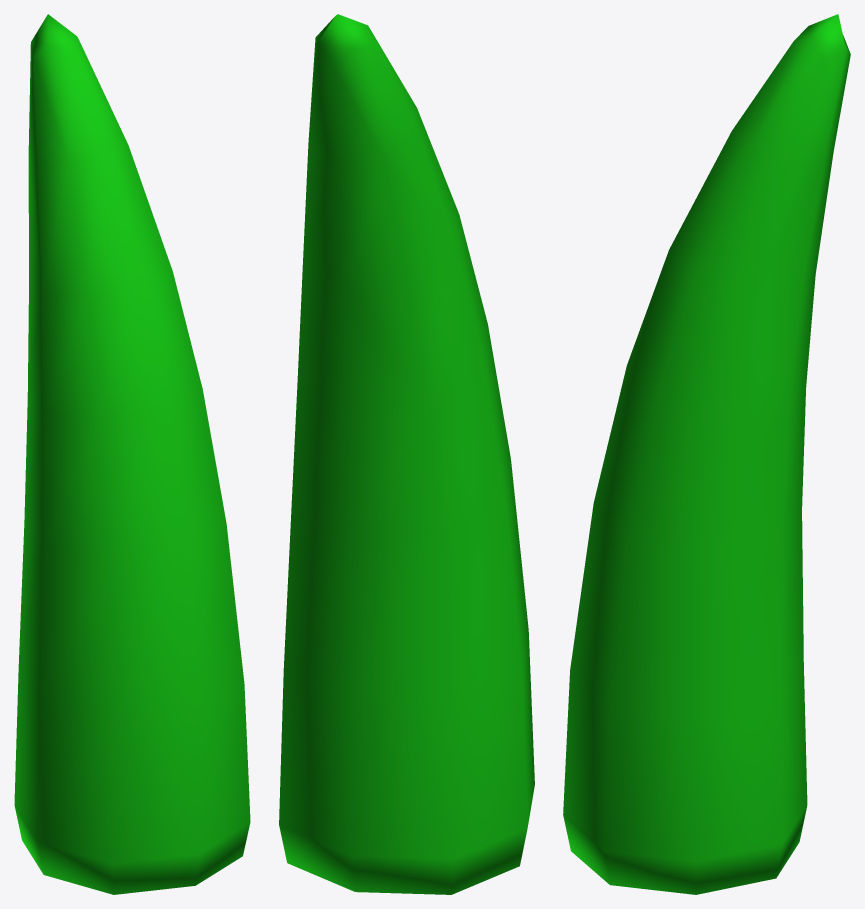
File: hierba_low.fbx
The picture shows the model from 3 angles, left to right: view 1: azimuth 30°, elevation 25°; view 2: azimuth 150°, elevation 25°; view 3: azimuth 270°, elevation 25°; orthographic projection. The views are drawn at different scales.
Parts seen in each view (by area): view 1: hierba_low; view 2: hierba_low; view 3: hierba_low.
Boxes of the visible parts, left/top/right/bottom form: hierba_low: left=14, top=14, right=250, bottom=894; hierba_low: left=279, top=14, right=534, bottom=894; hierba_low: left=563, top=14, right=850, bottom=894.
Bounding box in the file's own units: 18.11 × 68.04 × 21.33.
